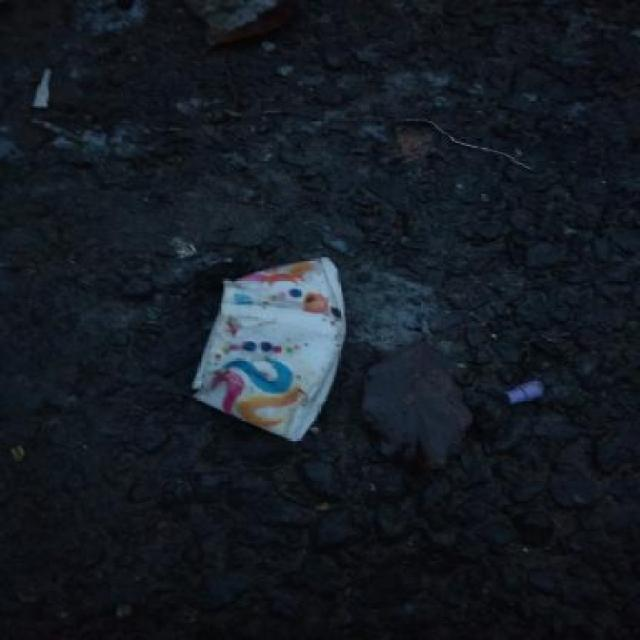garbage: (168, 237, 451, 474), (494, 321, 595, 456)
